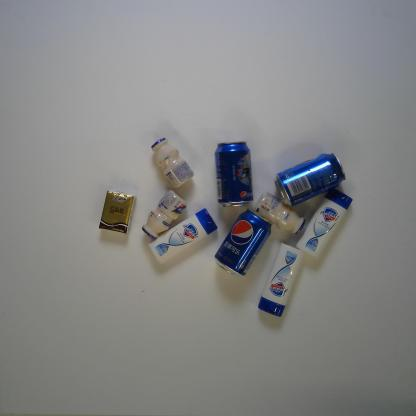Drink: (214, 209, 273, 278), (273, 152, 346, 207), (214, 141, 254, 207)
Milk: (141, 189, 187, 240), (150, 138, 195, 188), (253, 192, 305, 234)
Personal Hygiene: (296, 188, 353, 260), (148, 208, 218, 265), (257, 242, 304, 317)
Tissue: (98, 190, 136, 234)
